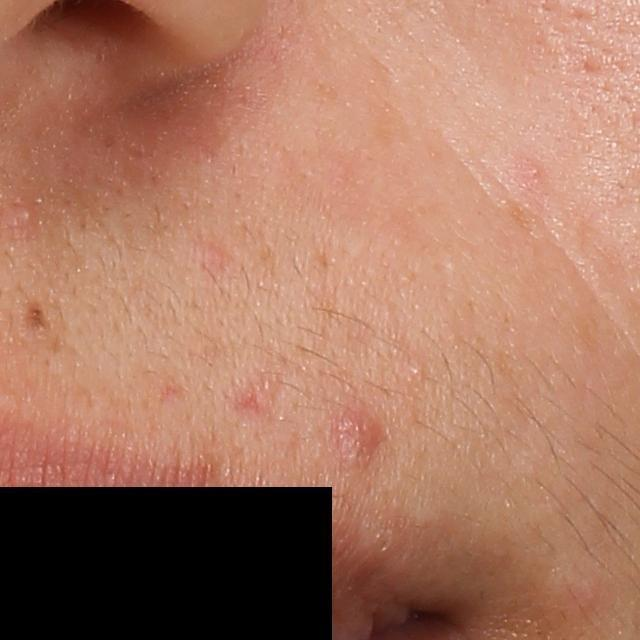papule: (324, 406, 391, 472), (1, 192, 55, 247)
